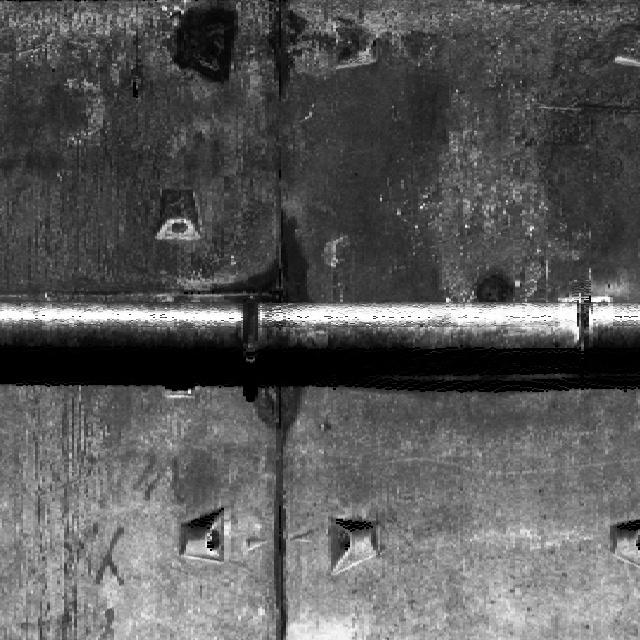leakage: (242, 382, 309, 639), (215, 196, 316, 306)
